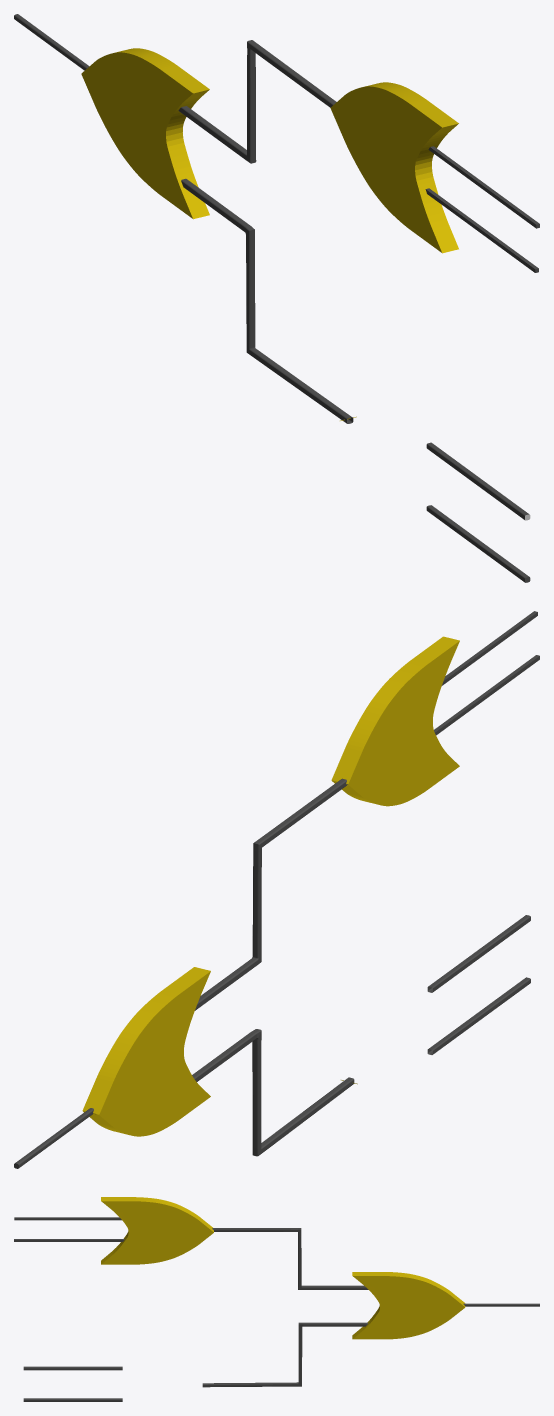
Rendered from combinacaoPortas2Desafio.fbx.
3 views of the same model, one above another, from view 1: azimuth 30°, elevation 25°; view 2: azimuth 150°, elevation 25°; view 3: azimuth 270°, elevation 25° (orthographic). The views are drawn at different scales.
Visible parts, largest first — view 1: PortaOuSozinha, Plano.002, Plano.001, PortaESozinha; view 2: PortaOuSozinha, Plano.002, Plano.001, PortaESozinha, Plano.003; view 3: PortaOuSozinha, Plano.002, Plano.001, PortaESozinha, Plano.003.
Part boxes in pixels (x1,y1,x2,y2): PortaOuSozinha: [330, 82, 539, 272]; Plano.002: [81, 48, 209, 219]; Plano.001: [178, 40, 356, 423]; PortaESozinha: [426, 442, 530, 582]; PortaOuSozinha: [331, 611, 539, 806]; Plano.002: [82, 967, 210, 1136]; Plano.001: [192, 778, 357, 1156]; PortaESozinha: [427, 915, 530, 1054]; Plano.003: [14, 1108, 93, 1168]; PortaOuSozinha: [14, 1197, 213, 1264]; Plano.002: [352, 1272, 465, 1339]; Plano.001: [202, 1228, 368, 1387]; PortaESozinha: [23, 1366, 122, 1401]; Plano.003: [463, 1303, 539, 1306].
Size of the model in its own units: 12.83 by 290 by 684.
